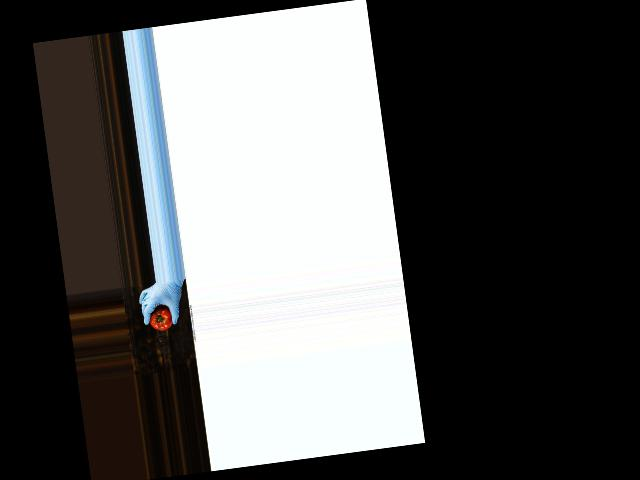tomato: (148, 304, 173, 332)
